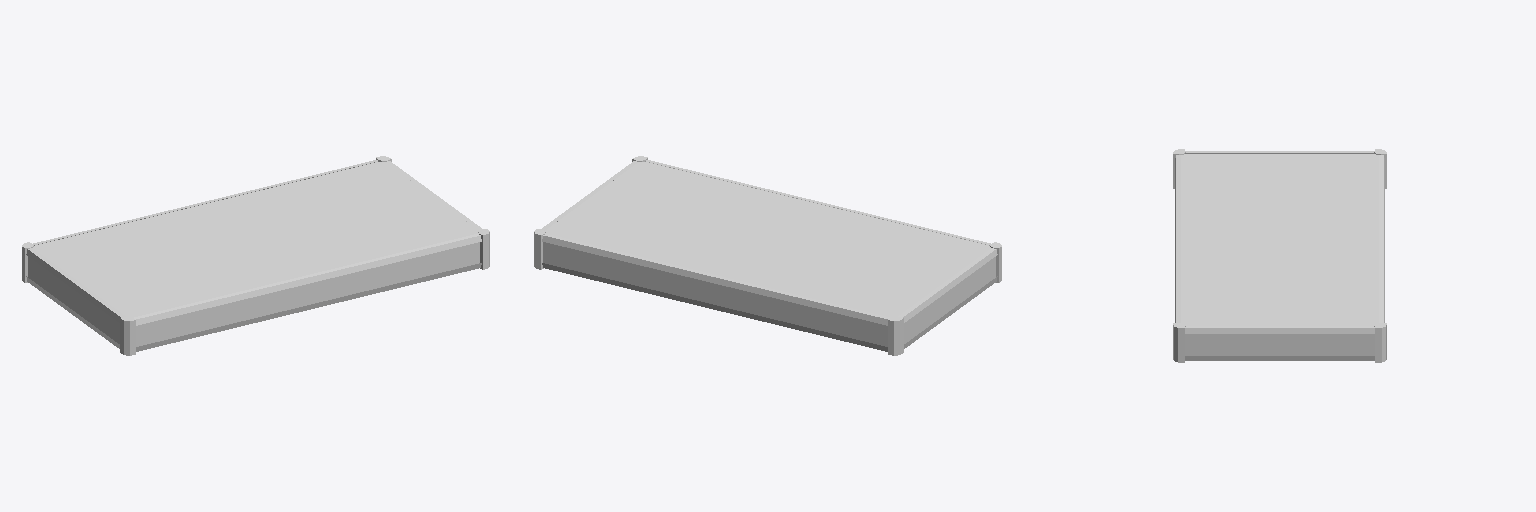
Rendered from stg600_obj_lightfloorC.obj.
The picture shows the model from 3 angles: view 1: azimuth 30°, elevation 25°; view 2: azimuth 150°, elevation 25°; view 3: azimuth 270°, elevation 25°; orthographic projection.
Parts seen in each view (by area): view 1: polygon0, polygon1, polygon2; view 2: polygon0, polygon1, polygon2; view 3: polygon0, polygon2, polygon1.
Part boxes in pixels (x1,y1,x2,y2): polygon0: (33, 162, 478, 317); polygon1: (28, 242, 479, 346); polygon2: (22, 156, 489, 355); polygon0: (545, 162, 990, 317); polygon1: (543, 242, 995, 346); polygon2: (534, 156, 1001, 355); polygon0: (1181, 154, 1378, 325); polygon2: (1173, 149, 1386, 362); polygon1: (1185, 334, 1374, 355).
Size of the model in its own units: 60.38 by 5.44 by 30.43.